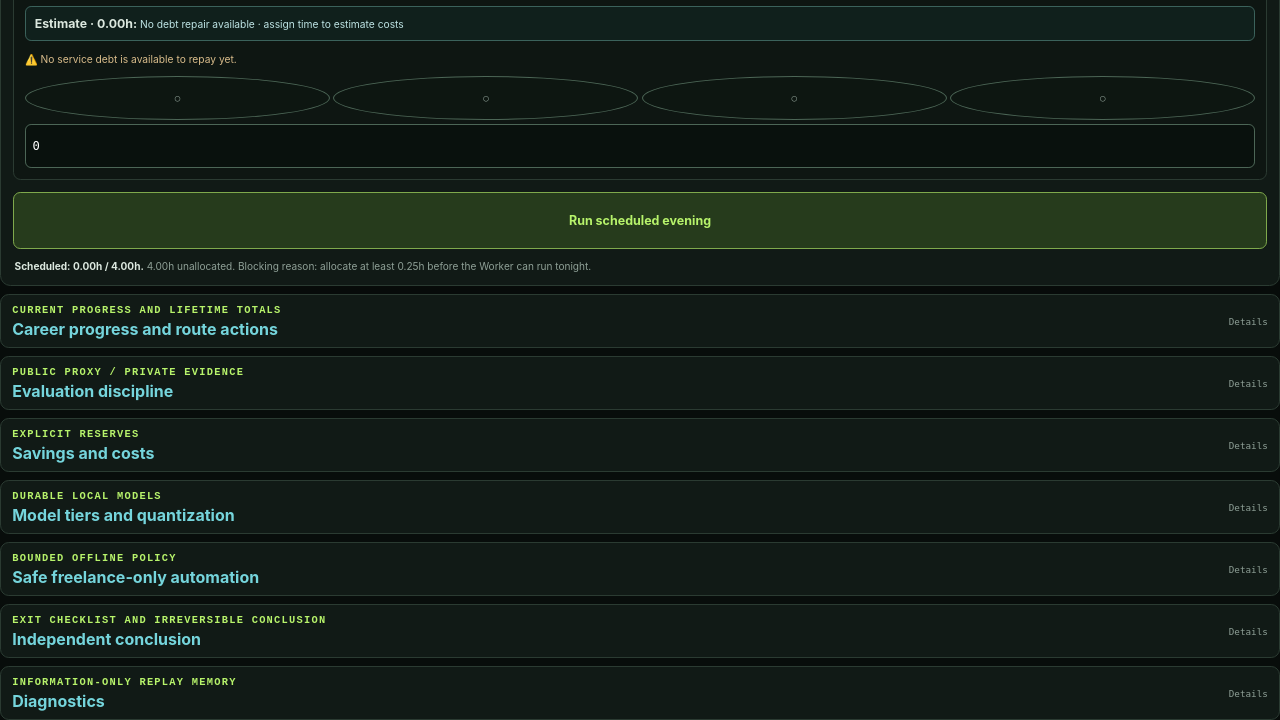
Test: Phase 4 compact money boundaries › formats model-tier card requirements with compact cents
(page scrolled)
Click the heading named "Show Model tiers and quantization": (87, 496) left=1, top=481, right=1279, bottom=533
(page scrolled)
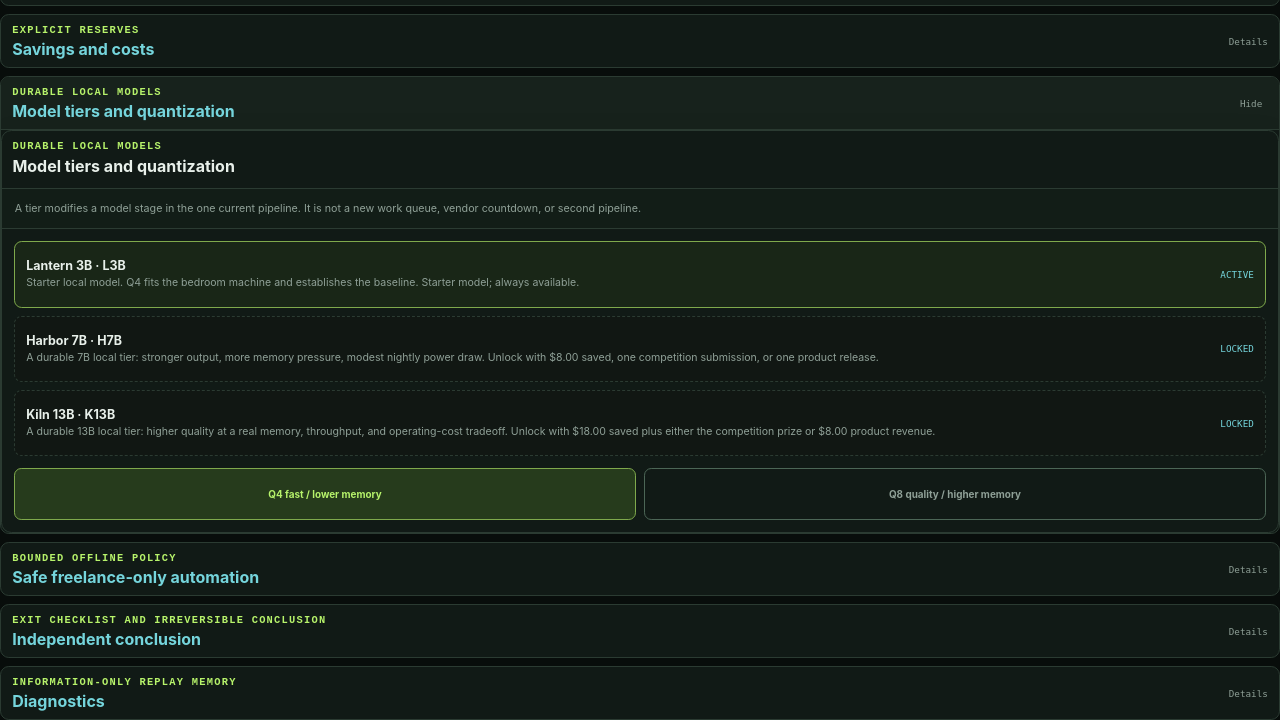
Now the text "Unlock with $8.00 saved" is shown, box left=488, top=351, right=879, bottom=364
Now the text "Unlock with $18.00 saved plus either the competition prize or $8.00 product revenue" is shown, box left=511, top=425, right=935, bottom=438
